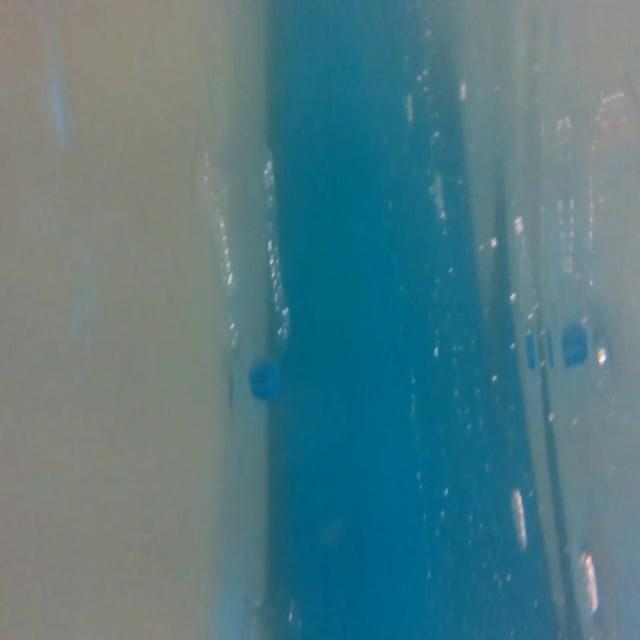plastic bottle: (194, 135, 299, 407)
